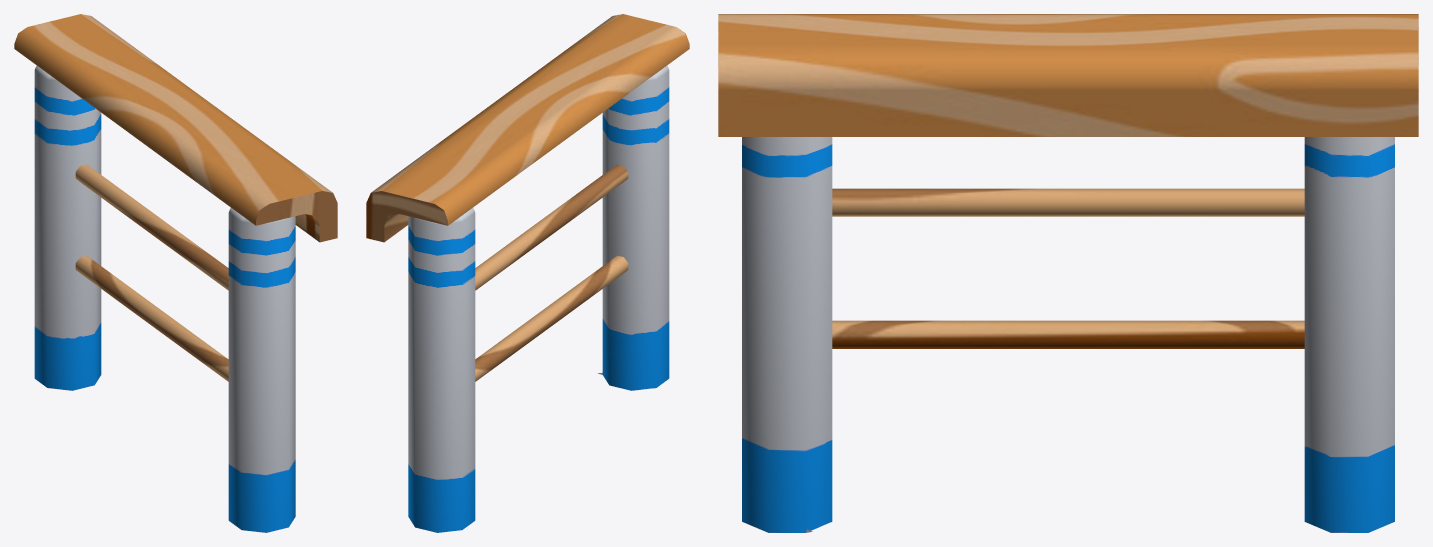
File: Fence_2.fbx
The picture shows the model from 3 angles, left to right: view 1: azimuth 30°, elevation 25°; view 2: azimuth 150°, elevation 25°; view 3: azimuth 270°, elevation 25°; orthographic projection. The views are drawn at different scales.
Visible parts, largest first — view 1: Fence; view 2: Fence; view 3: Fence.
Part boxes in pixels (x1,y1,x2,y2): Fence: (14, 14, 337, 532); Fence: (366, 14, 689, 532); Fence: (718, 14, 1418, 532).
Size of the model in its own units: 17.33 by 68.13 by 88.73.
1 material, 1 textured.
